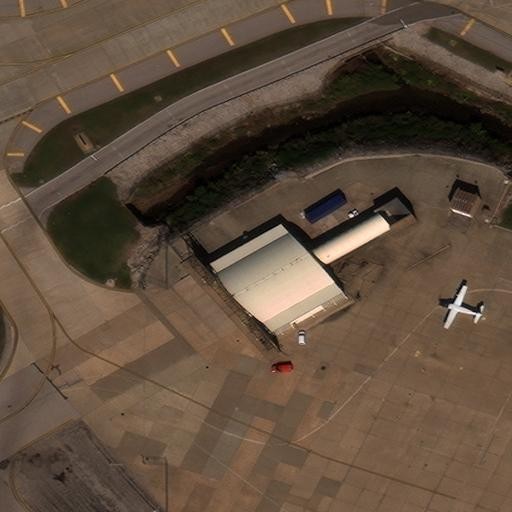Medium Civil Transport: (442, 285, 481, 327)
